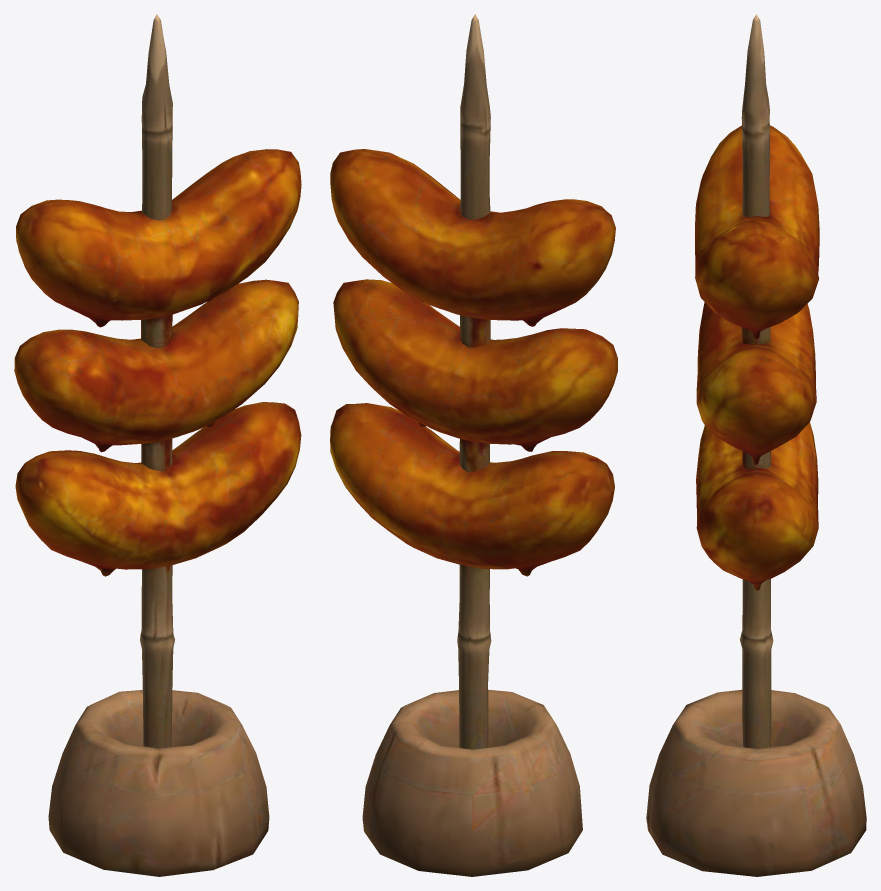
Rendered from banana-cue.glb.
3 renders of one model, left to right at view 1: azimuth 30°, elevation 25°; view 2: azimuth 150°, elevation 25°; view 3: azimuth 270°, elevation 25°, orthographic.
Parts seen in each view (by area): view 1: geometry_0; view 2: geometry_0; view 3: geometry_0.
Boxes of the visible parts, x1=… form: geometry_0: x1=14, y1=14, x2=301, y2=876; geometry_0: x1=330, y1=14, x2=617, y2=876; geometry_0: x1=646, y1=14, x2=866, y2=876.
Size of the model in its own units: 0.3594 by 1 by 0.2443.
1 material, 1 textured.
